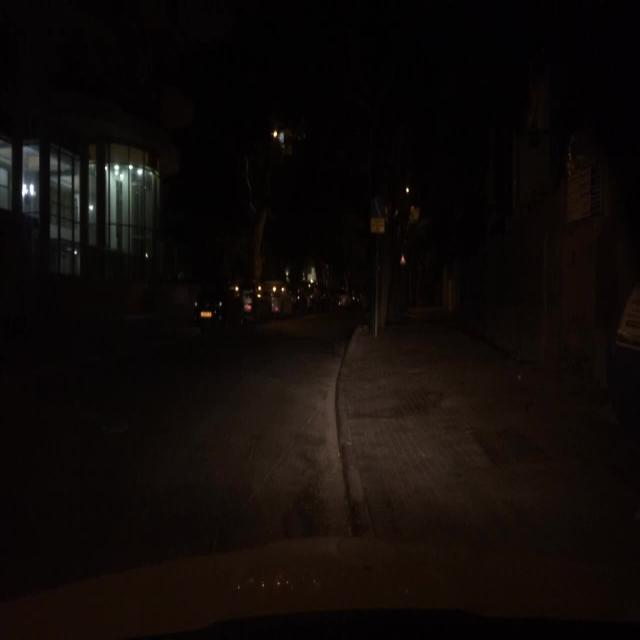car: (187, 274, 229, 340), (257, 280, 292, 318), (294, 282, 330, 315), (228, 282, 254, 321)
